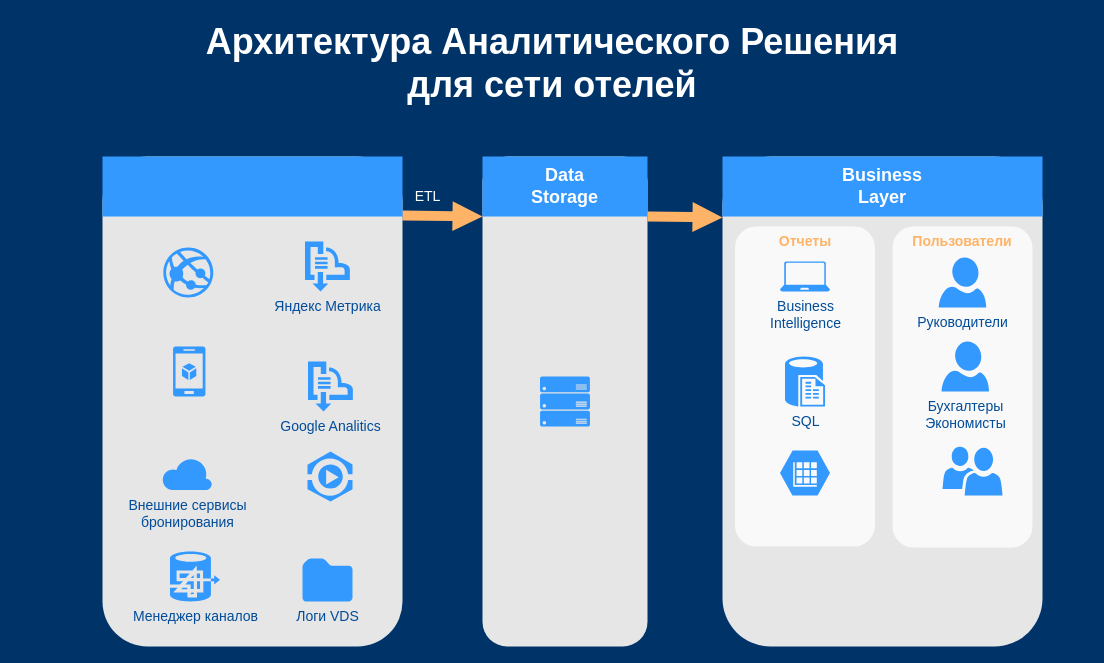
Some shapes in this 1104 by 663 pixel diagram are drawn without their labels. Each missing label, with the centre of its shape:
"MS Excel" goes at point 805,472.
"Source Layer" goes at point 252,186.
"Отдел бронирования" goes at point 972,470.
"Рекламные сервисы" goes at point 329,476.
"Сайты компании" goes at point 188,272.
"Система бронирования" goes at point 188,371.
"Хранилище данных" goes at point 565,401.
